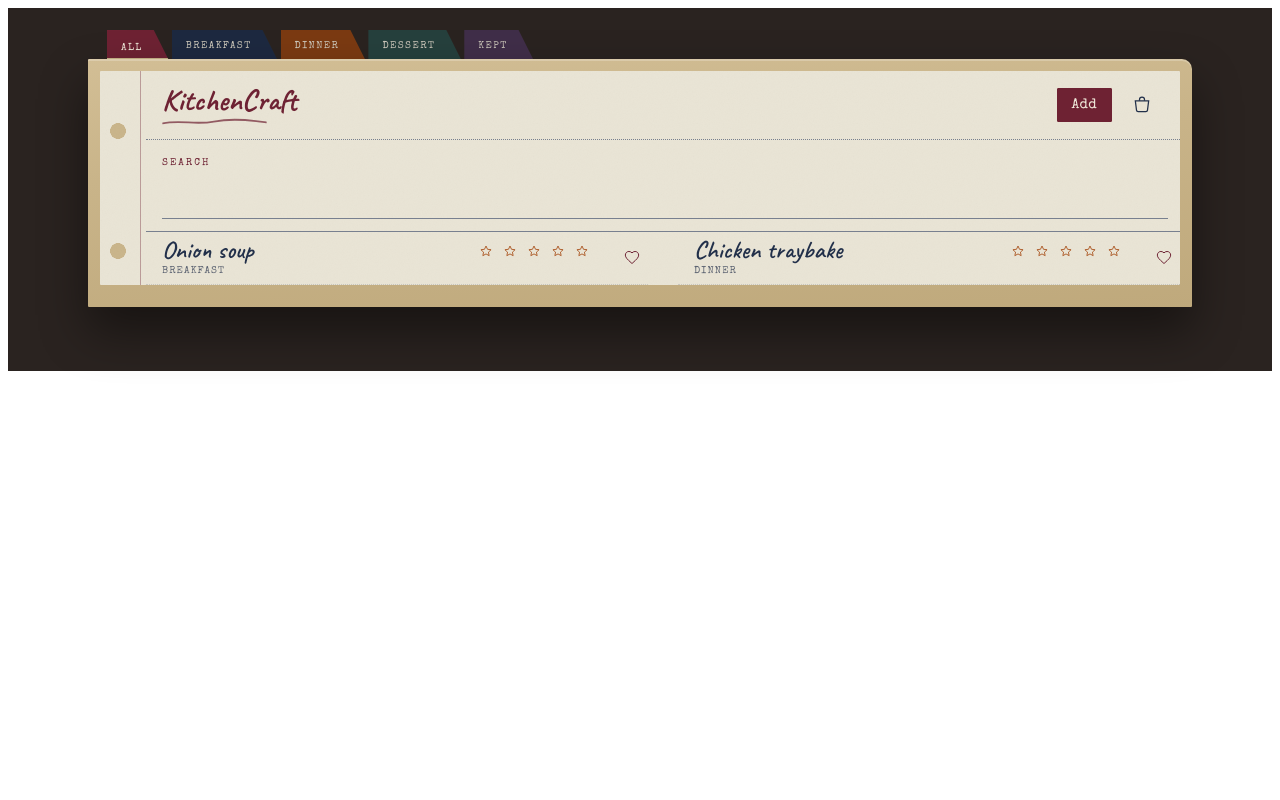
Test: the zero-result state › also offers to clear everything
The image size is (1280, 800).
Click the button with test id "tab-dinner". click: (323, 45)
box: x1=280 y1=30 x2=365 y2=60
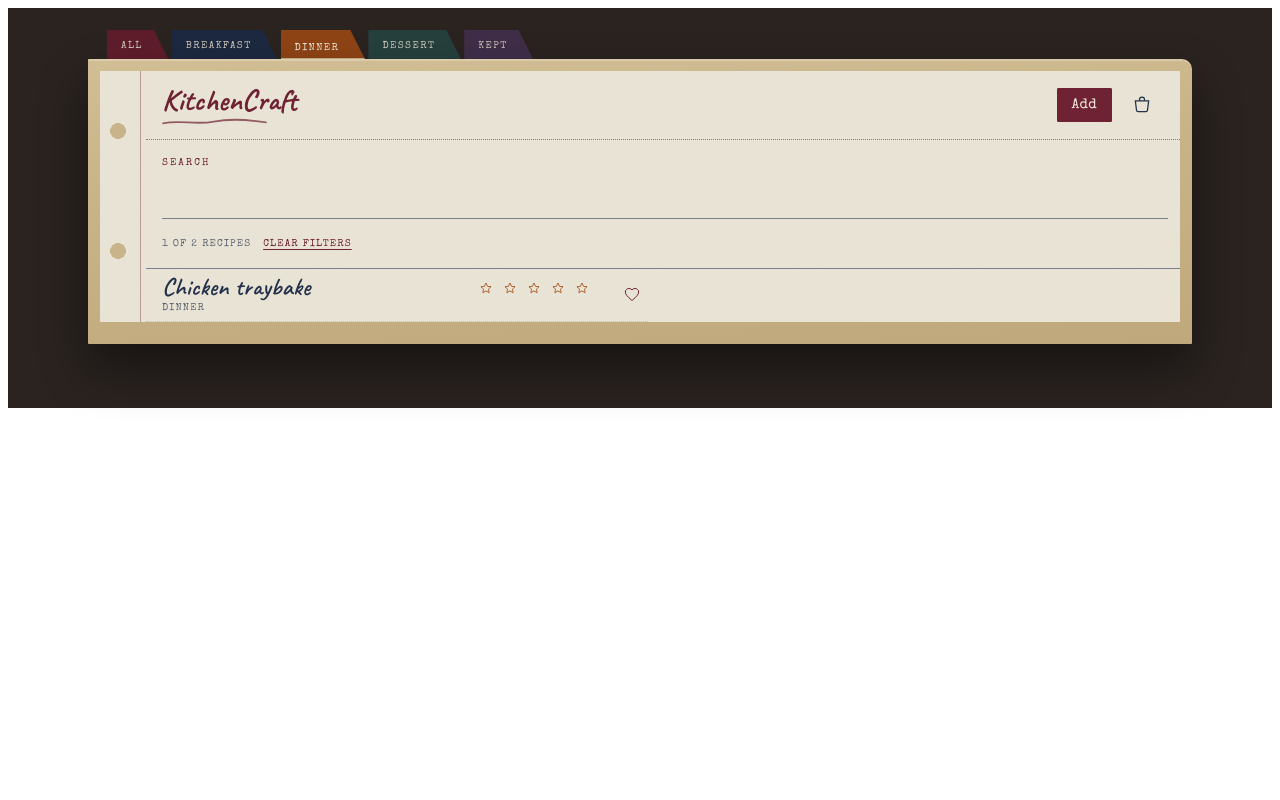
Type "crumble" into the field with test id "search". click: (665, 198)
box: x1=162 y1=176 x2=1168 y2=219
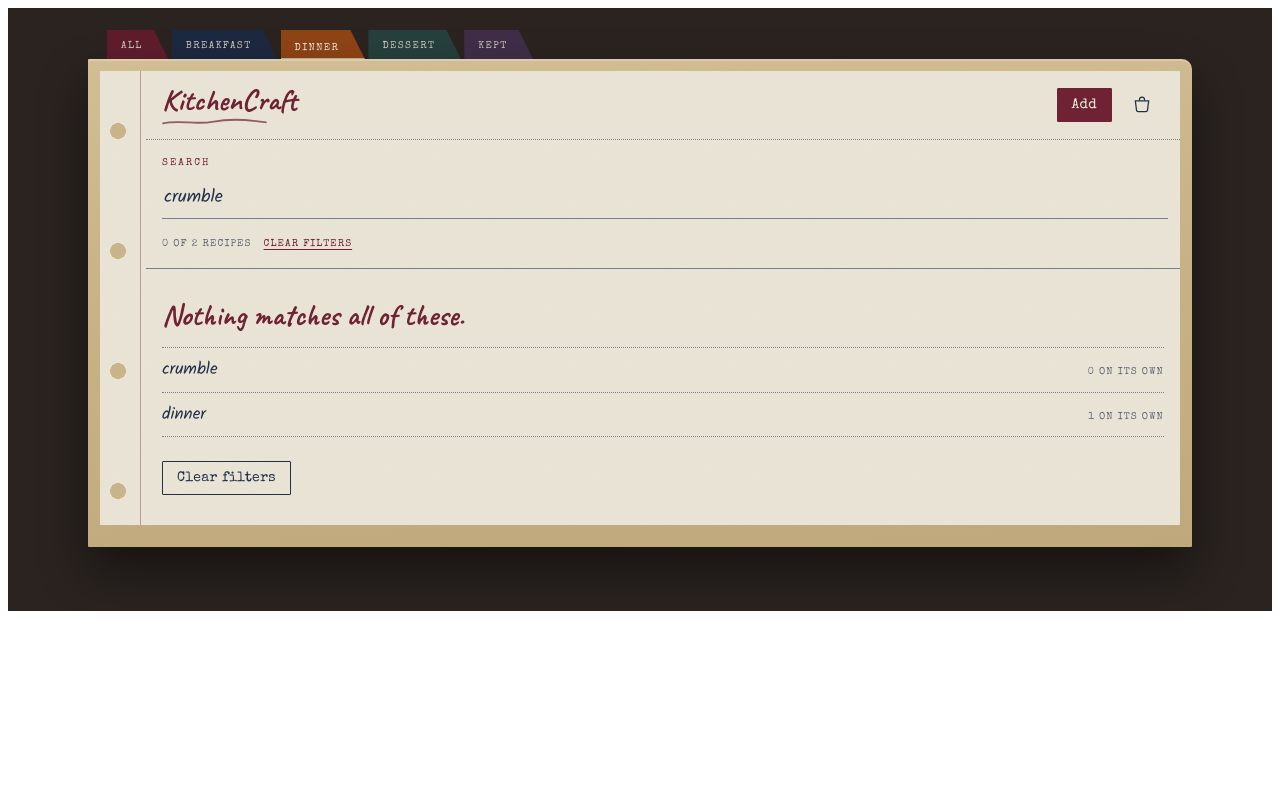
Click the button with test id "clear-filters-zero". click: (226, 478)
box: x1=162 y1=461 x2=291 y2=495
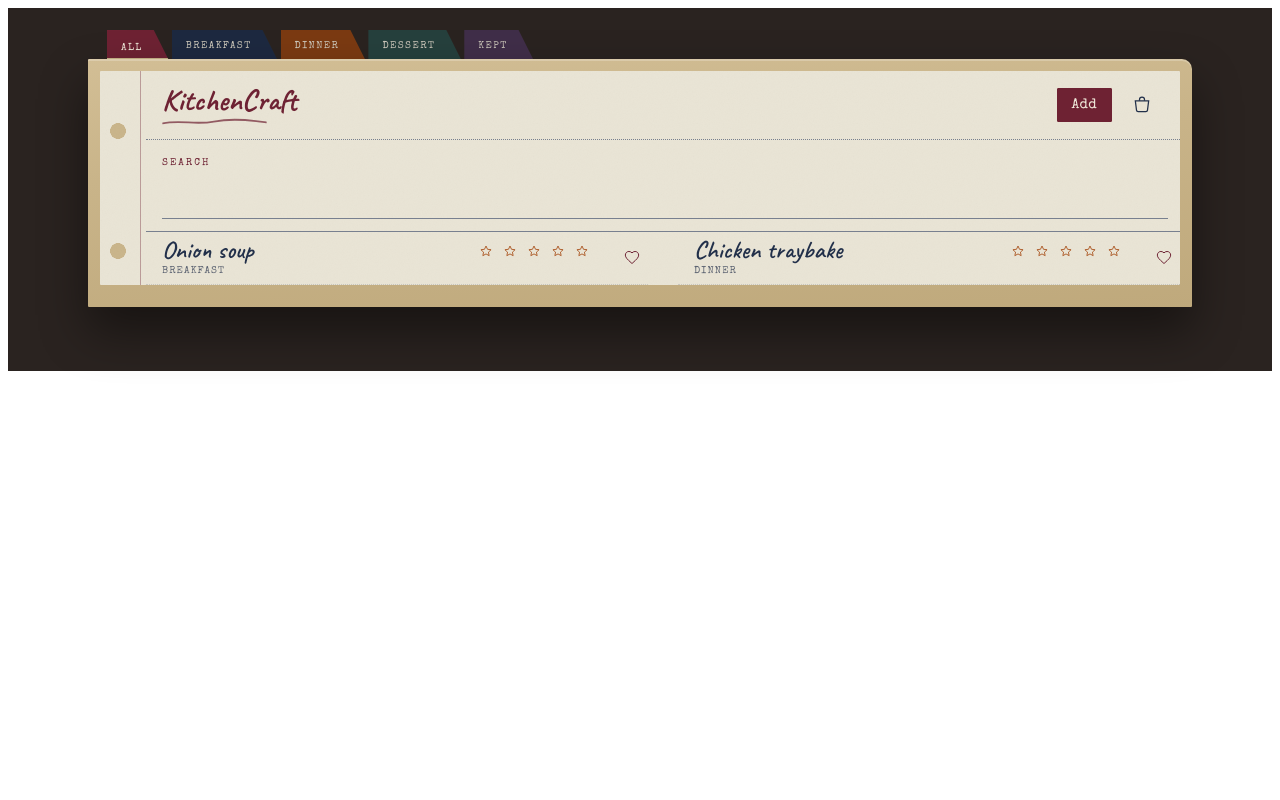
Result: the number of list items with class "kc-row" is 2 at x1=146 y1=232 x2=648 y2=285; x1=678 y1=232 x2=1180 y2=285
